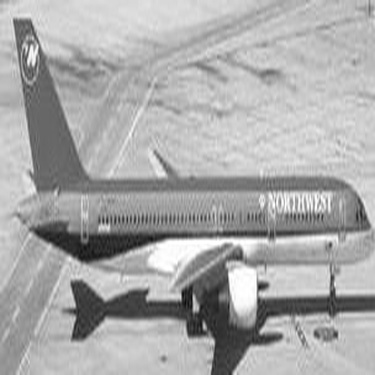airplane: (4, 6, 371, 372)
